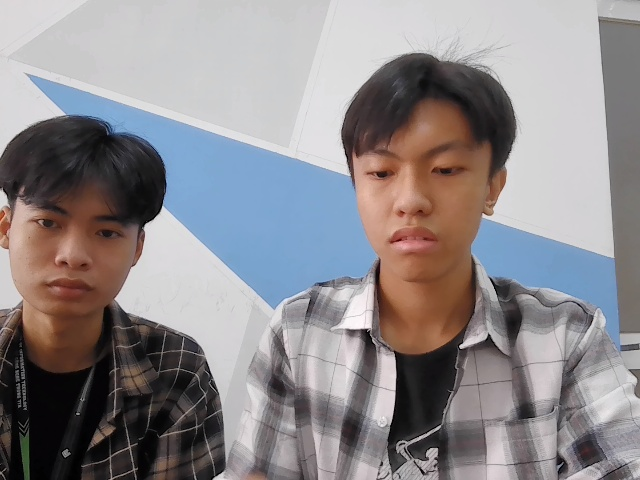human: (339, 53, 517, 290), (1, 112, 186, 319)
